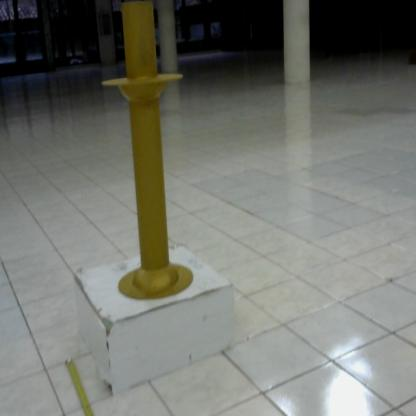pole: (96, 1, 209, 318)
